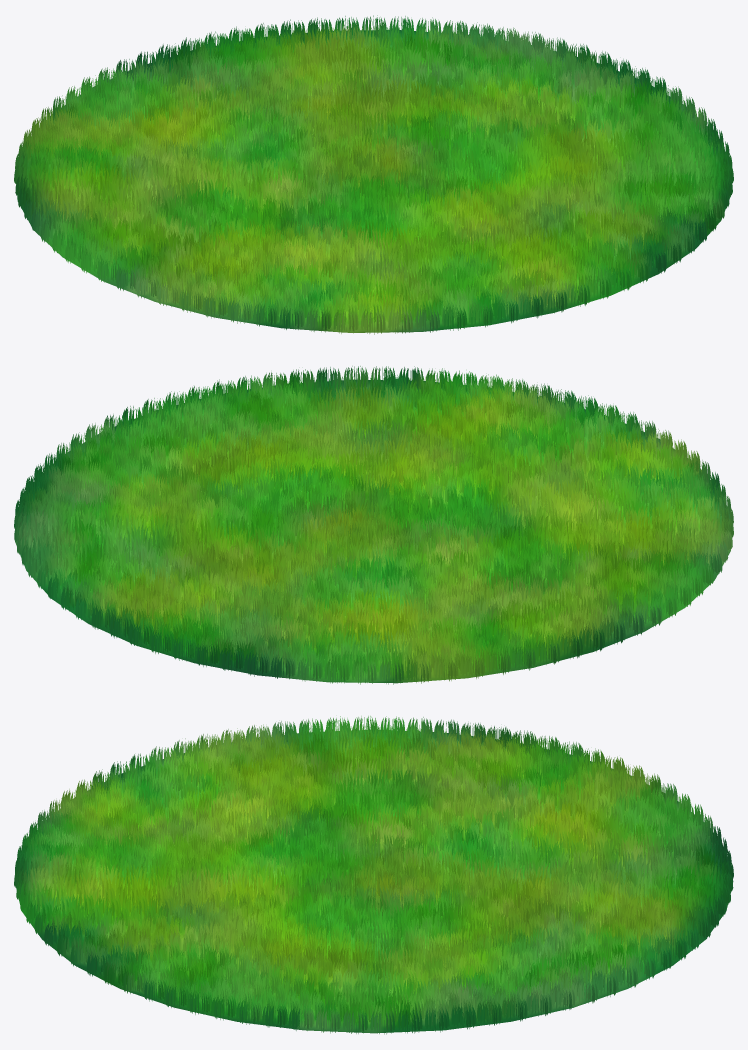
File: grass.glb
The picture shows the model from 3 angles, top to bottom: view 1: azimuth 30°, elevation 25°; view 2: azimuth 150°, elevation 25°; view 3: azimuth 270°, elevation 25°; orthographic projection.
Visible parts, largest first — view 1: Cubo.129, Cubo.129_N00_000_Hair_00_HAIR (Instance)_0.002, Cubo.129_N00_000_Hair_00_HAIR (Instance)_0.001, object 5, Cubo.129_N00_000_Hair_00_HAIR (Instance)_0.003; view 2: Cubo.129, Cubo.129_N00_000_Hair_00_HAIR (Instance)_0.002, Cubo.129_N00_000_Hair_00_HAIR (Instance)_0.001, object 5, Cubo.129_N00_000_Hair_00_HAIR (Instance)_0.003; view 3: Cubo.129, Cubo.129_N00_000_Hair_00_HAIR (Instance)_0.002, Cubo.129_N00_000_Hair_00_HAIR (Instance)_0.001, object 5, Cubo.129_N00_000_Hair_00_HAIR (Instance)_0.003.
Part boxes in pixels (x1,y1,x2,y2): Cubo.129: [14, 15, 733, 334]; Cubo.129_N00_000_Hair_00_HAIR (Instance)_0.002: [84, 45, 663, 308]; Cubo.129_N00_000_Hair_00_HAIR (Instance)_0.001: [160, 82, 562, 270]; object 5: [17, 30, 731, 332]; Cubo.129_N00_000_Hair_00_HAIR (Instance)_0.003: [59, 34, 689, 323]; Cubo.129: [14, 366, 733, 684]; Cubo.129_N00_000_Hair_00_HAIR (Instance)_0.002: [83, 392, 663, 652]; Cubo.129_N00_000_Hair_00_HAIR (Instance)_0.001: [185, 431, 587, 621]; object 5: [15, 379, 730, 683]; Cubo.129_N00_000_Hair_00_HAIR (Instance)_0.003: [58, 384, 691, 662]; Cubo.129: [14, 716, 733, 1034]; Cubo.129_N00_000_Hair_00_HAIR (Instance)_0.002: [59, 745, 663, 1002]; Cubo.129_N00_000_Hair_00_HAIR (Instance)_0.001: [160, 777, 587, 960]; object 5: [16, 730, 733, 1033]; Cubo.129_N00_000_Hair_00_HAIR (Instance)_0.003: [68, 735, 688, 1013].
Bounding box in the file's own units: 254 × 7.25 × 254.
2 materials, 2 textured.
